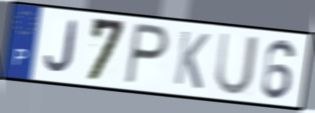6: (260, 37, 297, 101)
7: (87, 16, 127, 83)
J: (43, 18, 80, 74)
K: (171, 28, 212, 92)
P: (123, 21, 171, 88)
U: (213, 30, 260, 97)
